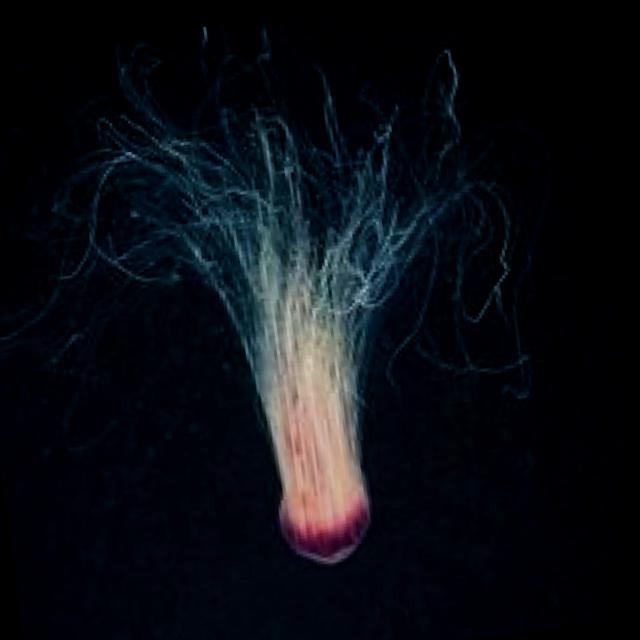Box-jellyfish: (0, 0, 623, 630)
